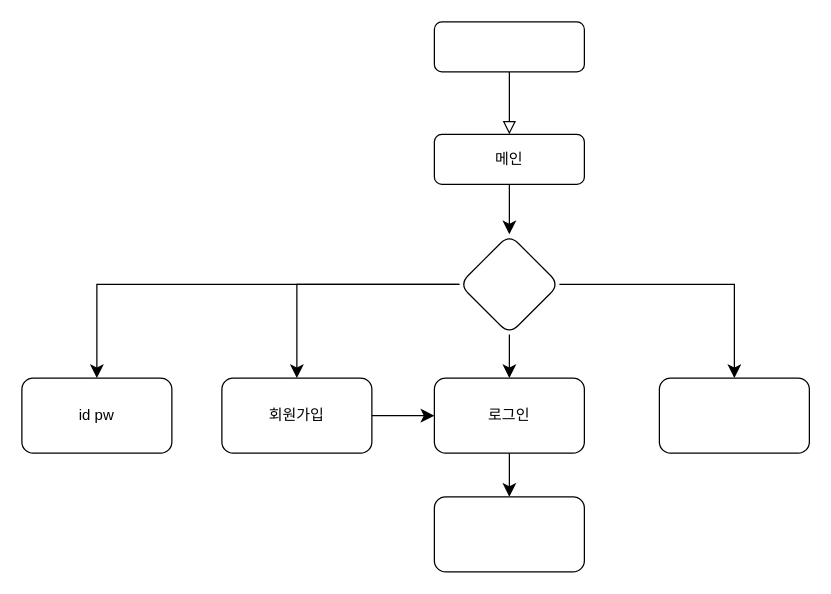
Some shapes in this 831 by 594 pixel diagram are drawn without their labels. The centre of each missing label's shape, as x and y in pixels:
"시작" belongs at point 508,46.
"예매" belongs at point 508,534.
